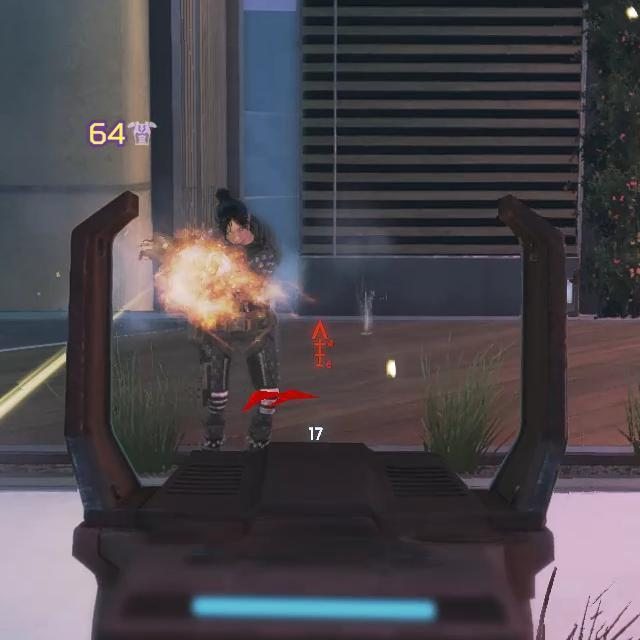avatar: (199, 202, 277, 453)
object: (154, 234, 254, 331)
